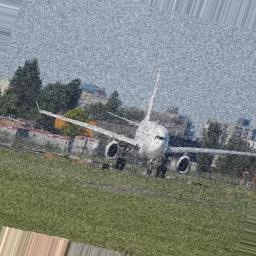Airplane: (34, 85, 256, 179)
